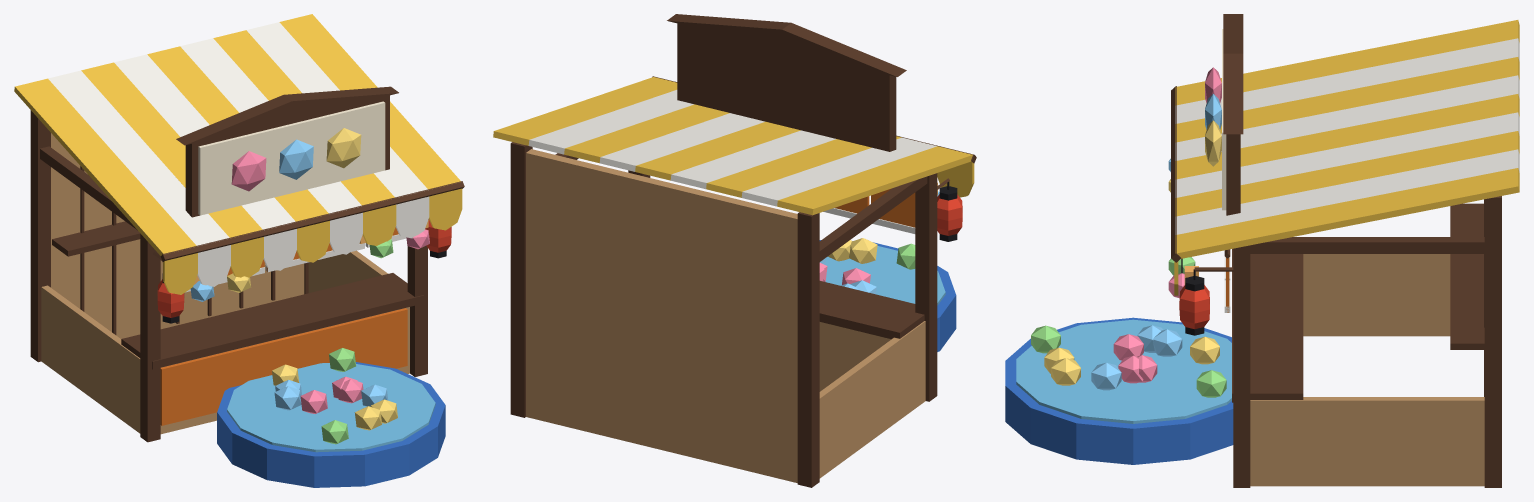
File: stall-yoyo.glb
3 renders of one model, left to right at view 1: azimuth 30°, elevation 25°; view 2: azimuth 150°, elevation 25°; view 3: azimuth 270°, elevation 25°, orthographic. The views are drawn at different scales.
Parts seen in each view (by area): view 1: StallYoyo_Wood, StallYoyo_AwningA, StallYoyo_WoodLight, StallYoyo_AwningB, StallYoyo_Noren, StallYoyo_Water, StallYoyo_Sign, StallYoyo_Pool, StallYoyo_BalYellow, StallYoyo_BalBlue, StallYoyo_BalPink, StallYoyo_BalGreen (+2 smaller); view 2: StallYoyo_WoodLight, StallYoyo_Wood, StallYoyo_AwningA, StallYoyo_AwningB, StallYoyo_Water, StallYoyo_Pool, StallYoyo_Noren, StallYoyo_Lanterns, StallYoyo_BalYellow; view 3: StallYoyo_WoodLight, StallYoyo_AwningA, StallYoyo_Wood, StallYoyo_AwningB, StallYoyo_Water, StallYoyo_Pool, StallYoyo_BalYellow, StallYoyo_BalBlue, StallYoyo_BalPink, StallYoyo_BalGreen, StallYoyo_Lanterns, StallYoyo_Sign.
Boxes of the visible parts, <box> form: StallYoyo_Wood: <box>30,86,464,442</box>; StallYoyo_AwningA: <box>14,14,462,294</box>; StallYoyo_WoodLight: <box>41,133,409,434</box>; StallYoyo_AwningB: <box>48,22,429,286</box>; StallYoyo_Noren: <box>160,227,407,425</box>; StallYoyo_Water: <box>227,363,435,452</box>; StallYoyo_Sign: <box>198,101,385,215</box>; StallYoyo_Pool: <box>217,362,445,487</box>; StallYoyo_BalYellow: <box>227,128,397,430</box>; StallYoyo_BalBlue: <box>190,139,388,410</box>; StallYoyo_BalPink: <box>231,151,429,413</box>; StallYoyo_BalGreen: <box>321,239,393,444</box>; StallYoyo_WoodLight: <box>526,149,925,482</box>; StallYoyo_Wood: <box>510,14,976,487</box>; StallYoyo_AwningA: <box>493,77,974,215</box>; StallYoyo_AwningB: <box>528,90,936,206</box>; StallYoyo_Water: <box>825,246,945,305</box>; StallYoyo_Pool: <box>819,240,956,351</box>; StallYoyo_Noren: <box>835,188,915,227</box>; StallYoyo_Lanterns: <box>937,194,962,235</box>; StallYoyo_BalYellow: <box>828,238,877,263</box>; StallYoyo_WoodLight: <box>1250,254,1484,486</box>; StallYoyo_AwningA: <box>1174,20,1519,295</box>; StallYoyo_Wood: <box>1171,14,1501,487</box>; StallYoyo_AwningB: <box>1175,38,1519,234</box>; StallYoyo_Water: <box>1016,319,1231,423</box>; StallYoyo_Pool: <box>1005,317,1233,464</box>; StallYoyo_BalYellow: <box>1044,120,1221,385</box>; StallYoyo_BalBlue: <box>1091,93,1221,390</box>; StallYoyo_BalPink: <box>1113,67,1221,383</box>; StallYoyo_BalGreen: <box>1031,257,1226,397</box>; StallYoyo_Lanterns: <box>1179,285,1209,329</box>; StallYoyo_Sign: <box>1222,29,1226,210</box>.
Bounding box in the file's own units: 13.9 × 13.75 × 18.01.
